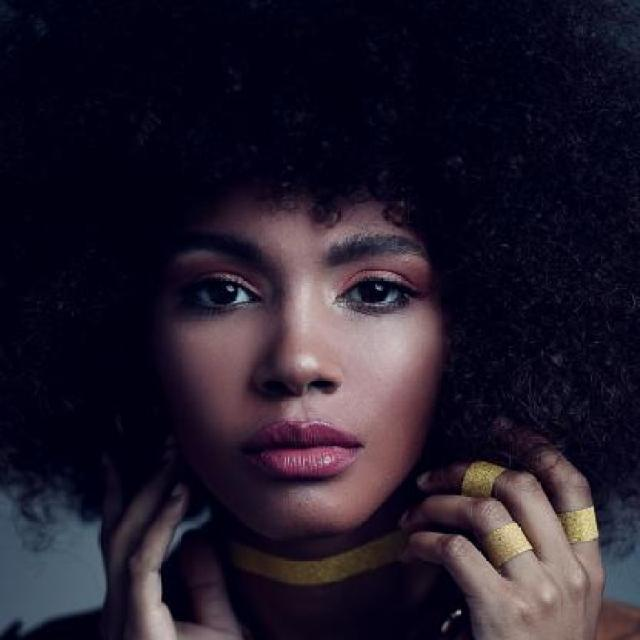closed-mouth: (238, 420, 362, 477)
